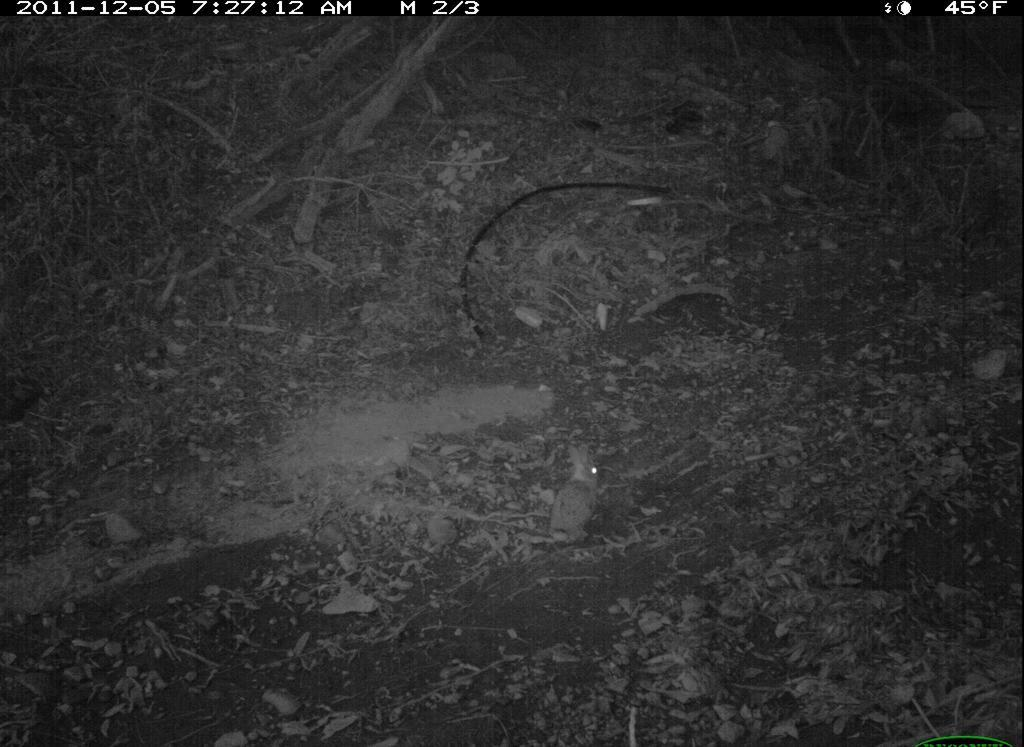rabbit: (543, 440, 611, 556)
